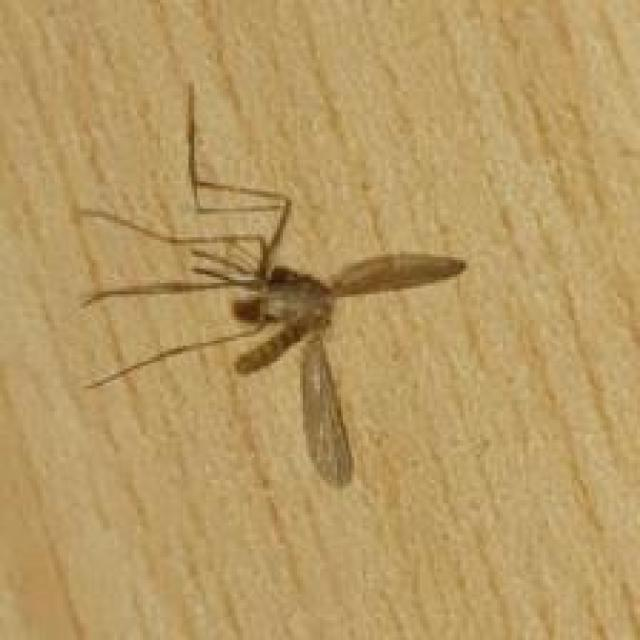Culex: (73, 81, 467, 490)
